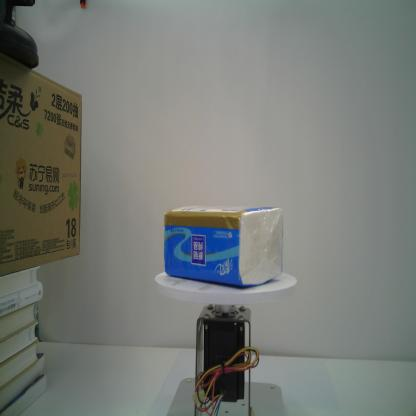Tissue: (163, 204, 284, 288)
